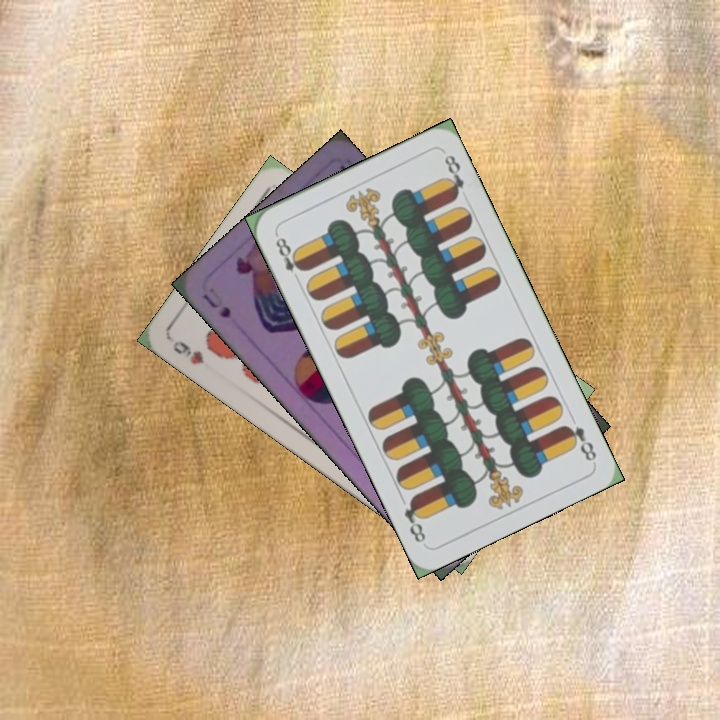E8: (271, 229, 308, 285), (559, 421, 599, 464)
H9: (168, 336, 207, 368)
SU: (198, 289, 234, 321)
